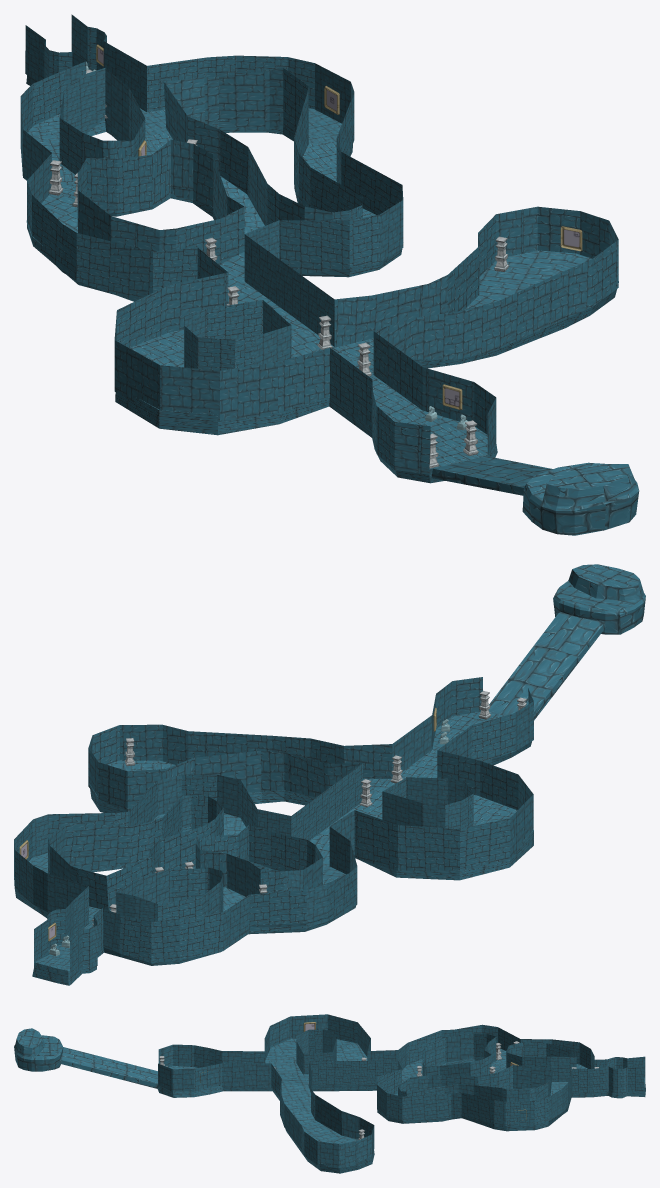
File: mazemap.fbx
3 renders of one model, top to bottom at view 1: azimuth 30°, elevation 25°; view 2: azimuth 150°, elevation 25°; view 3: azimuth 270°, elevation 25°, orthographic. The views are drawn at different scales.
Parts seen in each view (by area): view 1: 外圈背景, 內圈背景.001, 場景.001, 出口; view 2: 外圈背景, 內圈背景.001, 場景.001, 出口; view 3: 外圈背景, 內圈背景.001, 場景.001, 出口.
Part boxes in pixels (left/top/right/bottom): 外圈背景: left=20, top=14, right=618, bottom=474; 內圈背景.001: left=59, top=68, right=362, bottom=370; 場景.001: left=26, top=75, right=618, bottom=483; 出口: left=431, top=456, right=639, bottom=535; 外圈背景: left=14, top=677, right=533, bottom=977; 內圈背景.001: left=48, top=777, right=473, bottom=921; 場景.001: left=14, top=711, right=533, bottom=985; 出口: left=488, top=564, right=645, bottom=720; 外圈背景: left=158, top=1014, right=645, bottom=1168; 內圈背景.001: left=296, top=1029, right=576, bottom=1101; 場景.001: left=157, top=1038, right=645, bottom=1173; 出口: left=14, top=1028, right=158, bottom=1088.
Size of the model in its own units: 27604 by 5941 by 59662.
Materials: 13 (13 with a texture image).
